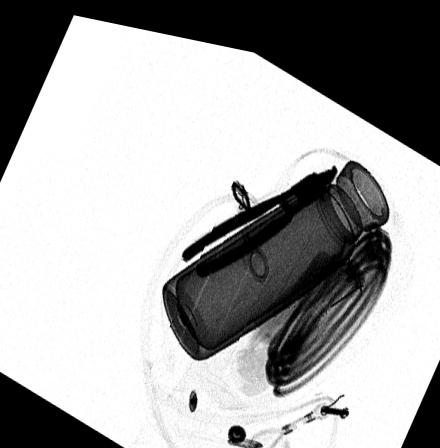Pliers: (177, 147, 337, 270)
